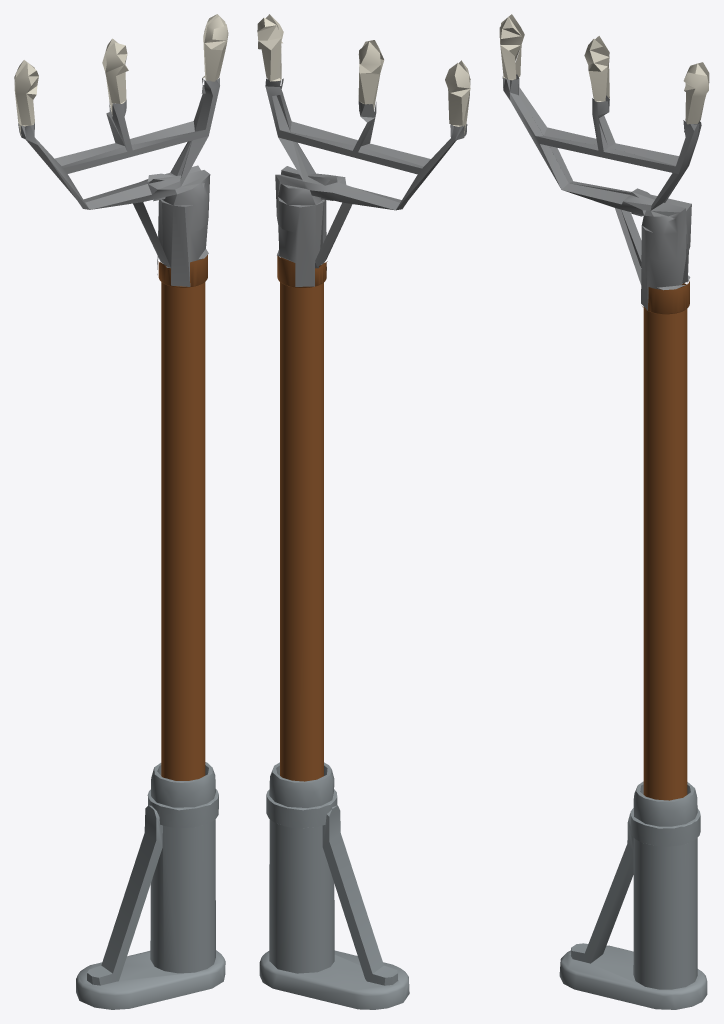
The model's file is small-electric-pole.glb.
3 renders of one model, left to right at view 1: azimuth 30°, elevation 25°; view 2: azimuth 150°, elevation 25°; view 3: azimuth 330°, elevation 25°, orthographic.
Parts seen in each view (by area): view 1: body; view 2: body; view 3: body.
Boxes of the visible parts, <box> form: body: <box>14,14,228,1009</box>; body: <box>257,14,470,1009</box>; body: <box>499,14,709,1009</box>.
Size of the model in its own units: 0.9519 by 4.07 by 0.3009.
